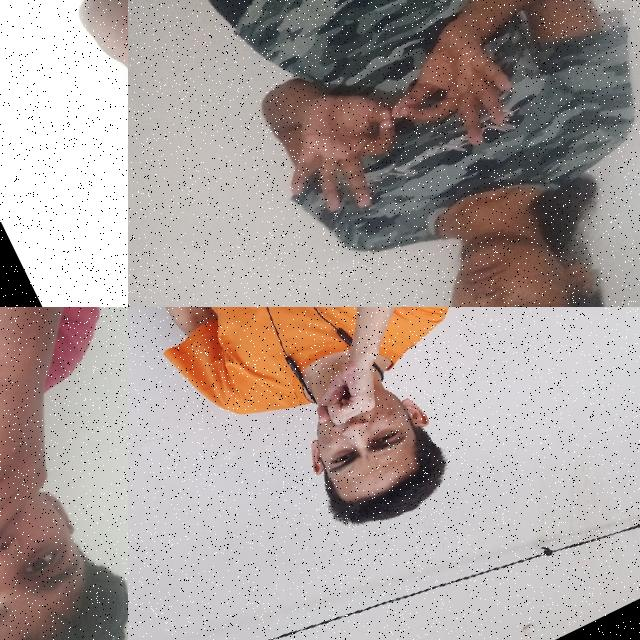Fist Mouth: (262, 319, 476, 552), (0, 325, 128, 640)
Okay: (244, 55, 432, 244), (362, 3, 538, 182)
